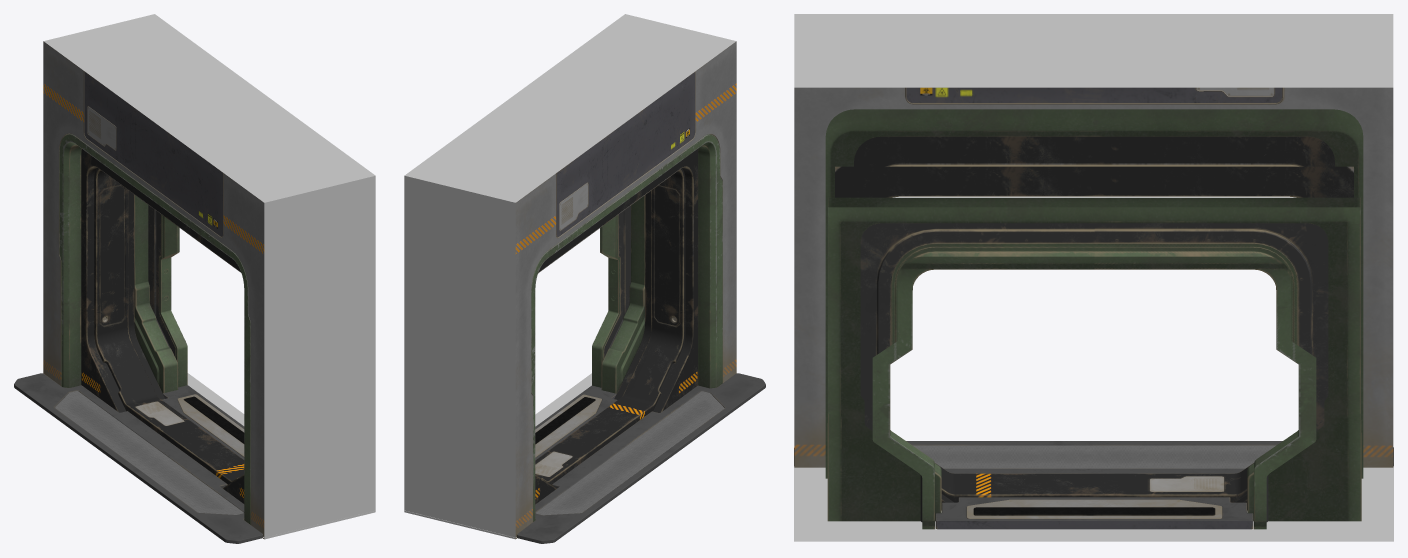
The model's file is SM_CorridorDoor02_Body.fbx.
3 renders of one model, left to right at view 1: azimuth 30°, elevation 25°; view 2: azimuth 150°, elevation 25°; view 3: azimuth 270°, elevation 25°, orthographic. The views are drawn at different scales.
Parts seen in each view (by area): view 1: SM_CorridorDoor02_Body_LOD0; view 2: SM_CorridorDoor02_Body_LOD0; view 3: SM_CorridorDoor02_Body_LOD0.
Boxes of the visible parts, x1,y1,x2,y2 form: SM_CorridorDoor02_Body_LOD0: (14,14,375,543); SM_CorridorDoor02_Body_LOD0: (404,14,765,543); SM_CorridorDoor02_Body_LOD0: (794,14,1393,541).
Size of the model in its own units: 205 by 540 by 454.
Materials: 2 (1 with a texture image).
